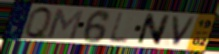6: (81, 9, 113, 45)
L: (106, 11, 130, 44)
M: (46, 8, 86, 41)
N: (134, 13, 172, 47)
Q: (24, 5, 54, 41)
V: (171, 14, 199, 48)
